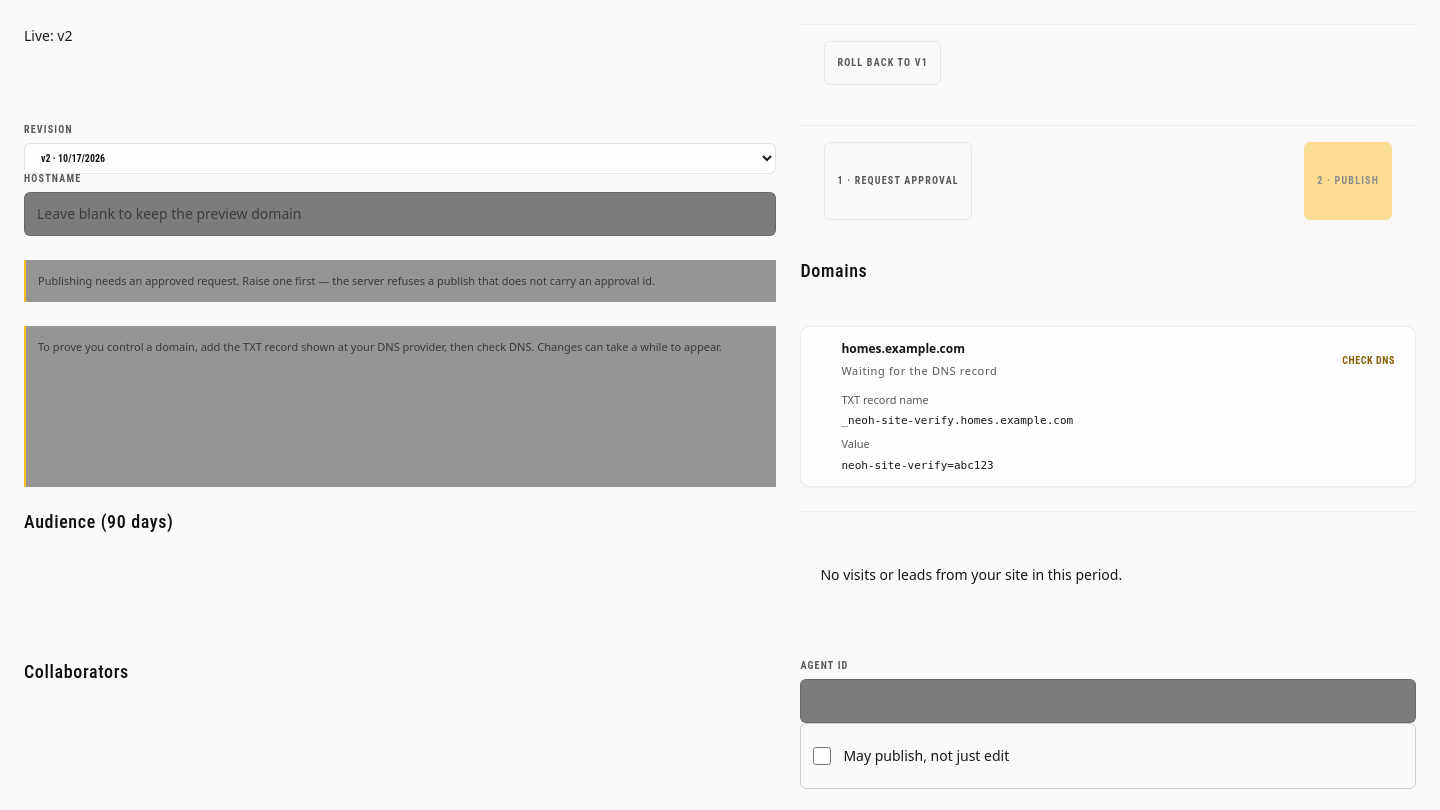
SitePublishPanel › shows ownership verified without claiming the site is served there
The image size is (1440, 810).
Click the button "Check DNS": click(1369, 361) [1342,339,1395,383]
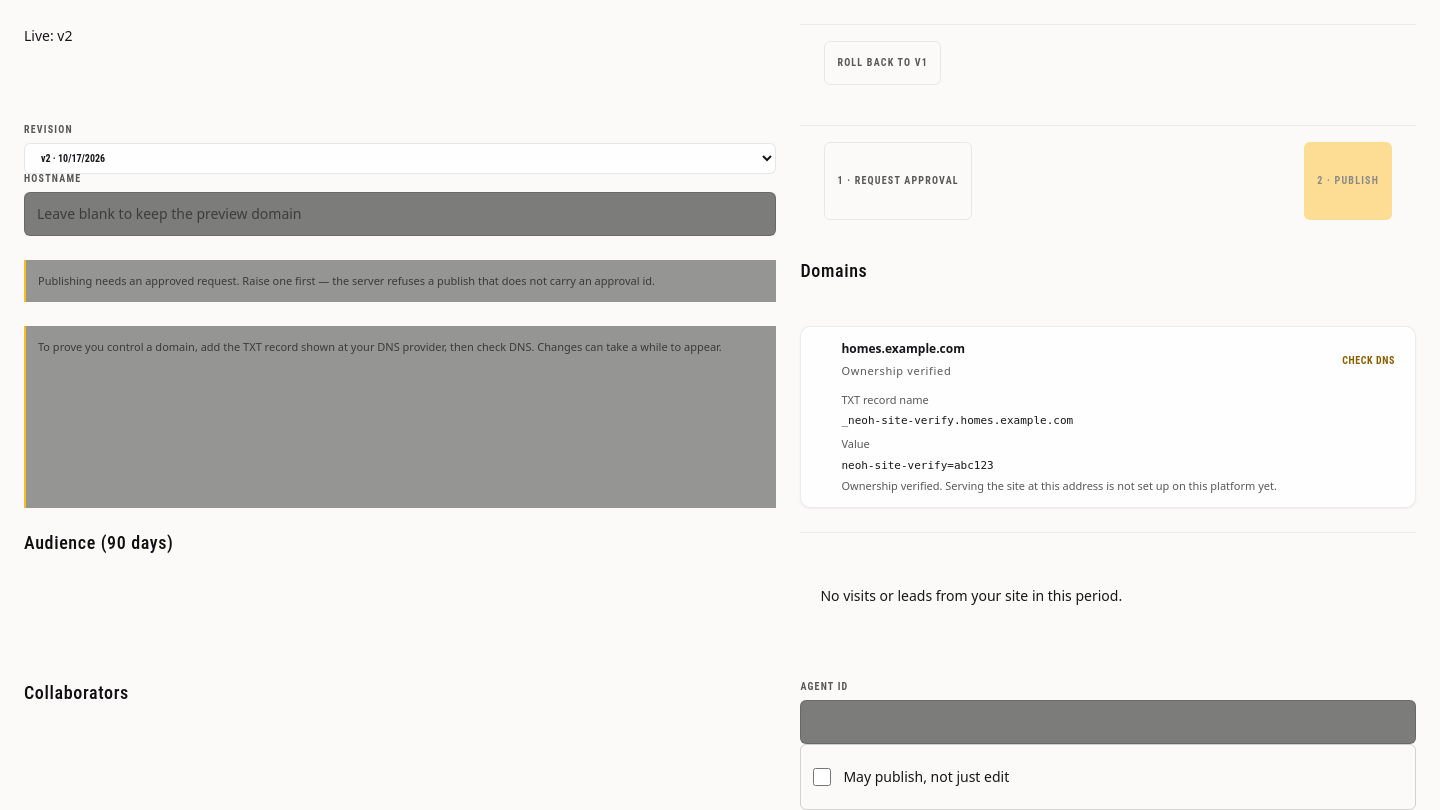
Expected: the text "Ownership verified" is shown, [841,363,951,378]
Expected: the text "not set up on this platform yet" is shown, [841,478,1277,493]
